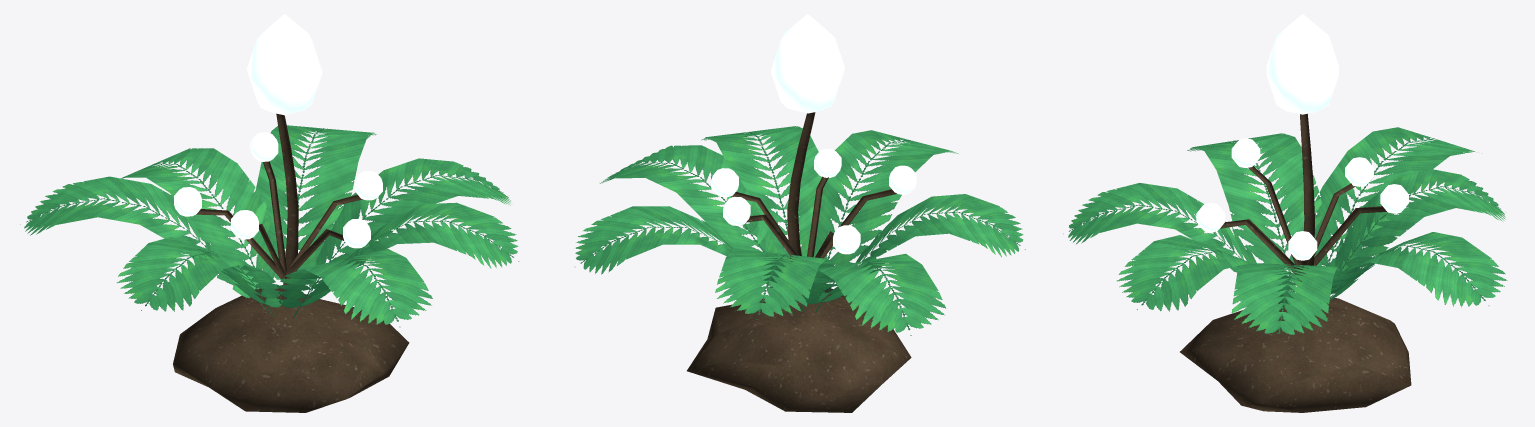
Rendered from spirit_herb.glb.
3 renders of one model, left to right at view 1: azimuth 30°, elevation 25°; view 2: azimuth 150°, elevation 25°; view 3: azimuth 270°, elevation 25°, orthographic.
Parts seen in each view (by area): view 1: HerbLeaves, HerbStems, HerbBud; view 2: HerbLeaves, HerbStems, HerbBud; view 3: HerbLeaves, HerbStems, HerbBud.
Boxes of the visible parts, x1=… form: HerbLeaves: x1=20, y1=125, x2=519, y2=327; HerbStems: x1=173, y1=113, x2=409, y2=412; HerbBud: x1=174, y1=14, x2=382, y2=248; HerbLeaves: x1=575, y1=126, x2=1025, y2=335; HerbStems: x1=687, y1=112, x2=911, y2=412; HerbBud: x1=711, y1=14, x2=916, y2=254; HerbLeaves: x1=1063, y1=127, x2=1507, y2=339; HerbStems: x1=1180, y1=113, x2=1411, y2=412; HerbBud: x1=1196, y1=14, x2=1408, y2=260.
Bounding box in the file's own units: 0.7088 × 0.5985 × 0.6649.
Materials: 3 (2 with a texture image).
